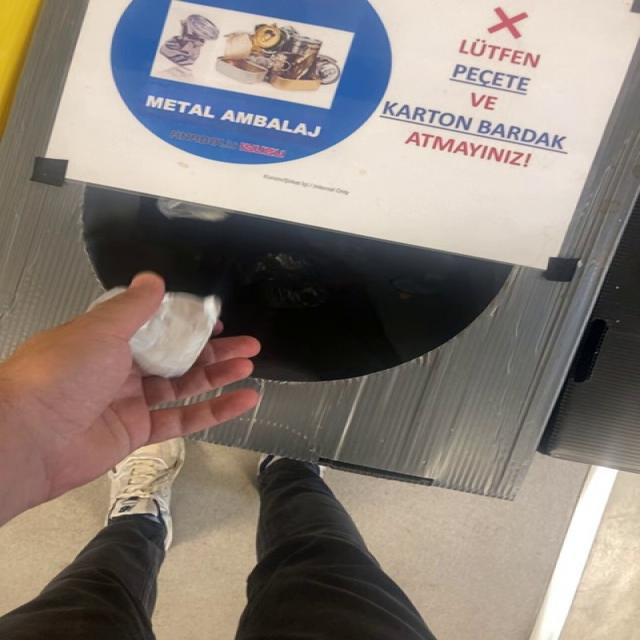bin: (3, 66, 639, 500)
metal: (129, 293, 221, 378)
